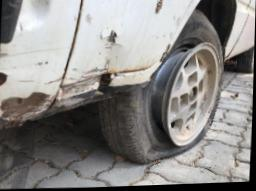Bumper: (0, 0, 83, 131)
Fender: (53, 0, 197, 106)
